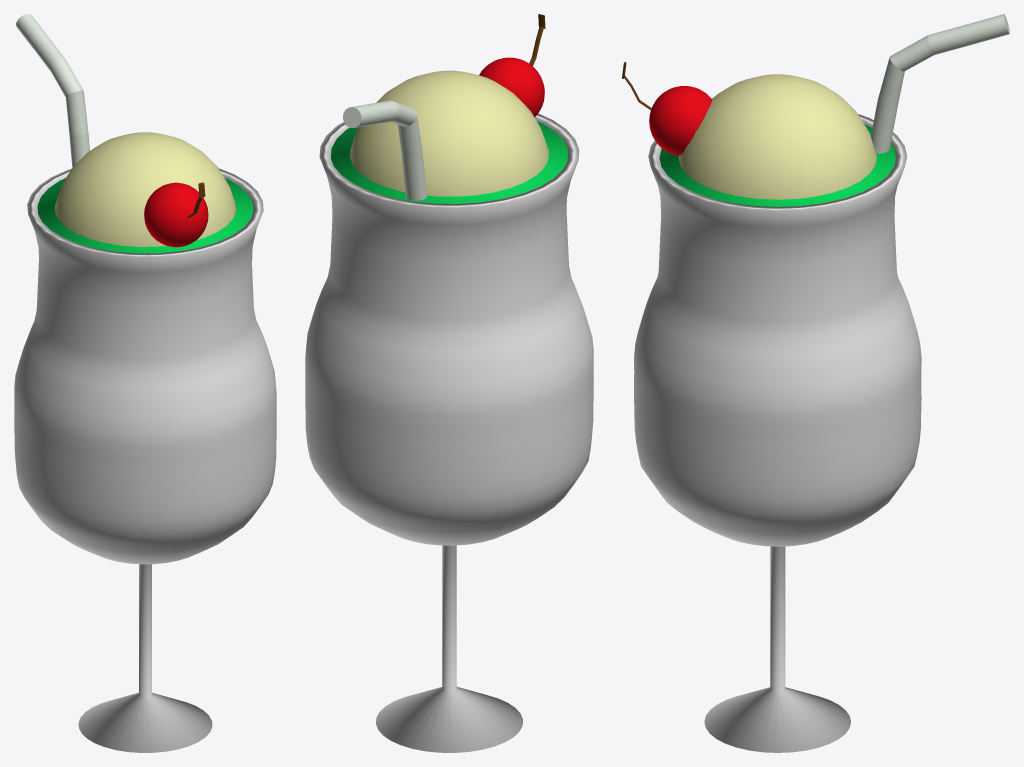
Rendered from Drink.fbx.
The picture shows the model from 3 angles, left to right: view 1: azimuth 30°, elevation 25°; view 2: azimuth 150°, elevation 25°; view 3: azimuth 270°, elevation 25°; orthographic projection. The views are drawn at different scales.
Parts seen in each view (by area): view 1: 円柱, 球, 球.001, 円柱.003, 円柱.001; view 2: 円柱, 球, 円柱.001, 円柱.003, 球.001; view 3: 円柱, 球, 円柱.003, 球.001, 円柱.001.
Part boxes in pixels (x1,y1,x2,y2): 円柱: (14,168,276,752); 球: (55,132,235,246); 球.001: (144,182,208,247); 円柱.003: (16,14,89,167); 円柱.001: (37,178,253,253); 円柱: (305,113,593,752); 球: (350,70,548,196); 円柱.001: (331,121,567,203); 円柱.003: (343,100,426,200); 球.001: (479,57,544,117); 円柱: (634,114,921,752); 球: (678,74,876,199); 円柱.003: (871,14,1009,153); 球.001: (649,86,711,155); 円柱.001: (659,124,895,206).
Size of the model in its own units: 284 by 762 by 384.
